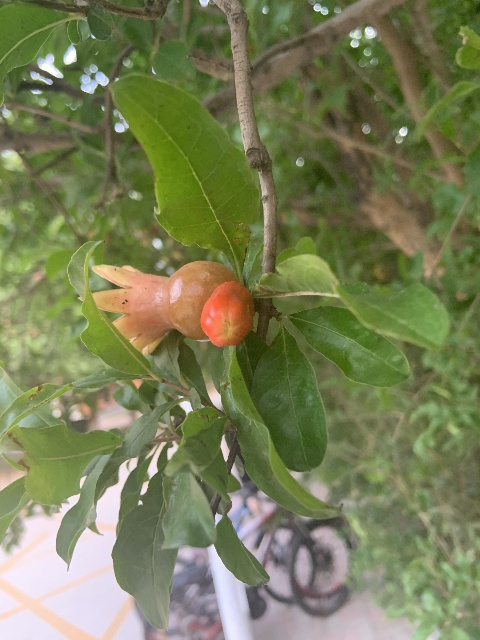bud: (201, 281, 253, 346)
early-fruit: (88, 257, 236, 356)
